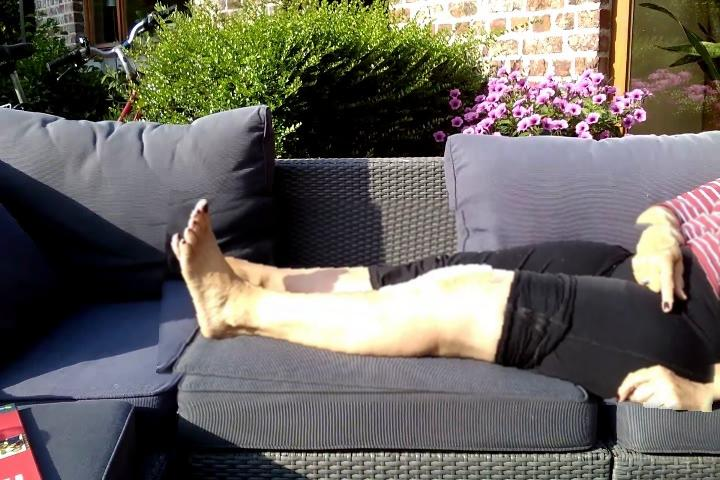lower_body: (160, 200, 720, 403)
